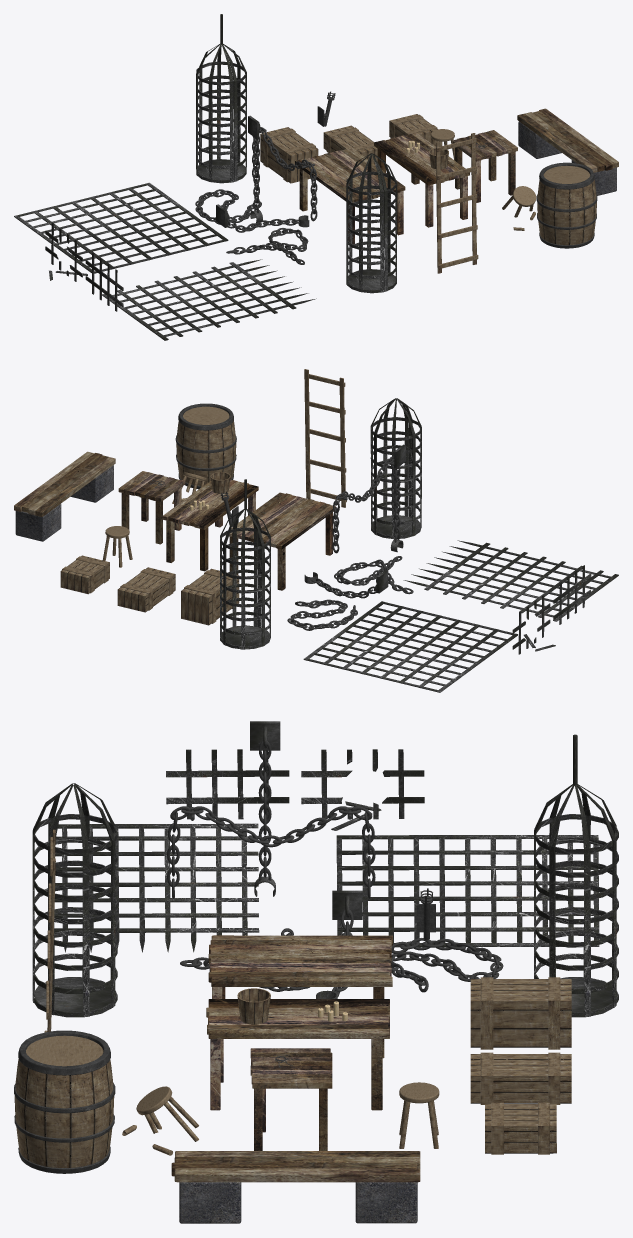
File: Props.fbx
3 renders of one model, top to bottom at view 1: azimuth 30°, elevation 25°; view 2: azimuth 150°, elevation 25°; view 3: azimuth 270°, elevation 25°, orthographic. The views are drawn at different scales.
Parts seen in each view (by area): view 1: Floor_Gate, Table_Top (×3), Hanging_Cage, Floor_Cage, Arch_Gate, Barrel, Wood_Seat, Crate_C, Crate_B, Crate_A, Stone_2, Tunnel_Grate (+5 smaller); view 2: Table_Top (×3), Floor_Gate, Hanging_Cage, Arch_Gate, Floor_Cage, Barrel, Wood_Seat, Crate_C, Crate_B, Crate_A, Stone_2, Stone_1 (+5 smaller); view 3: Table_Top (×3), Barrel, Floor_Gate, Floor_Cage, Hanging_Cage, Arch_Gate, Wood_Seat, Crate_C, Crate_B, Crate_A, Tunnel_Grate, Stone_1 (+9 smaller).
Boxes of the visible parts, bbox=[...] form: Floor_Gate: bbox=[14, 182, 228, 273]; Table_Top (×3): bbox=[295, 130, 517, 203]; Hanging_Cage: bbox=[196, 14, 246, 183]; Floor_Cage: bbox=[346, 153, 397, 293]; Arch_Gate: bbox=[102, 259, 316, 340]; Barrel: bbox=[536, 162, 597, 248]; Wood_Seat: bbox=[517, 108, 618, 172]; Crate_C: bbox=[260, 127, 318, 183]; Crate_B: bbox=[323, 125, 377, 163]; Crate_A: bbox=[389, 114, 438, 146]; Stone_2: bbox=[518, 121, 561, 158]; Tunnel_Grate: bbox=[85, 252, 123, 311]; Table_Top (×3): bbox=[118, 471, 335, 549]; Floor_Gate: bbox=[303, 601, 518, 692]; Hanging_Cage: bbox=[220, 479, 270, 649]; Arch_Gate: bbox=[403, 540, 618, 621]; Floor_Cage: bbox=[370, 398, 421, 539]; Barrel: bbox=[175, 403, 236, 489]; Wood_Seat: bbox=[14, 451, 115, 516]; Crate_C: bbox=[181, 568, 239, 625]; Crate_B: bbox=[117, 567, 175, 612]; Crate_A: bbox=[60, 555, 109, 594]; Stone_2: bbox=[15, 504, 61, 541]; Stone_1: bbox=[70, 465, 113, 502]; Table_Top (×3): bbox=[206, 935, 392, 1088]; Barrel: bbox=[14, 1030, 115, 1173]; Floor_Gate: bbox=[336, 835, 599, 947]; Floor_Cage: bbox=[32, 783, 117, 1017]; Hanging_Cage: bbox=[534, 734, 618, 1017]; Arch_Gate: bbox=[54, 823, 259, 952]; Wood_Seat: bbox=[171, 1151, 420, 1182]; Crate_C: bbox=[470, 977, 571, 1049]; Crate_B: bbox=[470, 1052, 571, 1104]; Crate_A: bbox=[485, 1102, 556, 1154]; Tunnel_Grate: bbox=[166, 749, 289, 819]; Stone_1: bbox=[179, 1182, 241, 1223].
Bounding box in the file's own units: 16.73 × 4.89 × 10.14.
